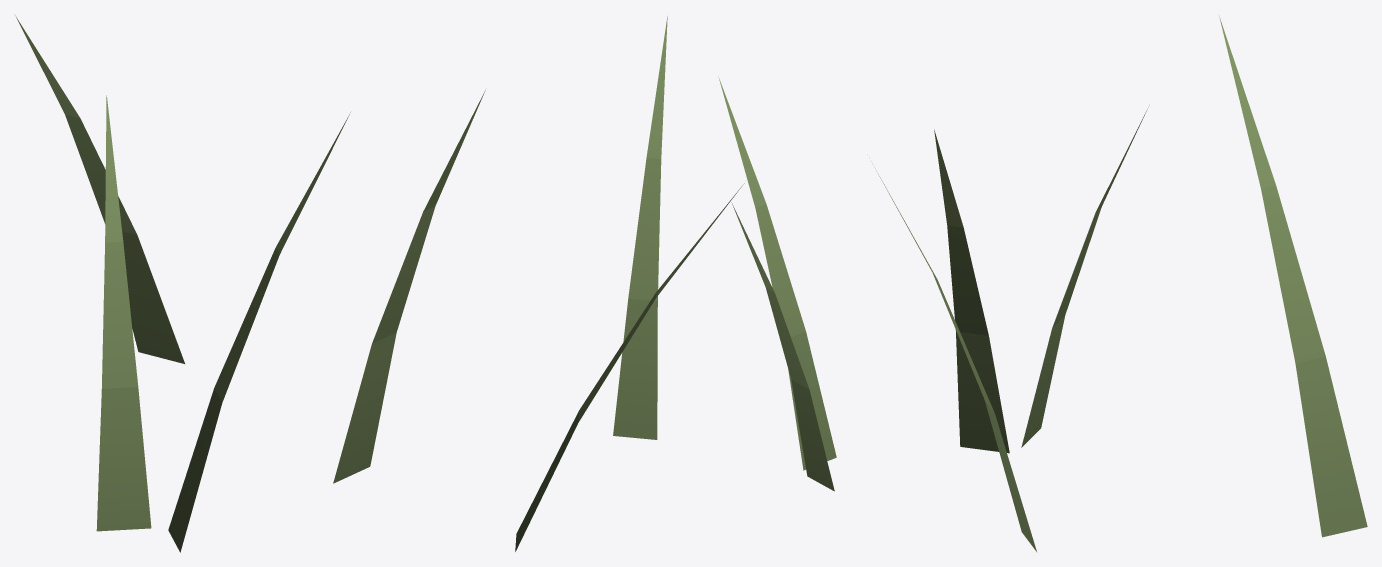
Rendered from grass_2.glb.
3 renders of one model, left to right at view 1: azimuth 30°, elevation 25°; view 2: azimuth 150°, elevation 25°; view 3: azimuth 270°, elevation 25°, orthographic. The views are drawn at different scales.
Visible parts, largest first — view 1: grass_2.001; view 2: grass_2.001; view 3: grass_2.001.
Boxes of the visible parts, box(x1,y1,x2,y2) form: grass_2.001: box(14, 14, 485, 552); grass_2.001: box(515, 16, 836, 551); grass_2.001: box(871, 15, 1367, 551).
Size of the model in its own units: 0.1861 by 0.2674 by 0.2901.
